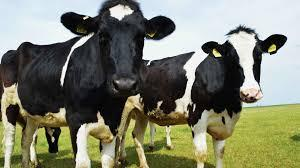cow: (0, 0, 176, 168), (119, 26, 288, 168)
